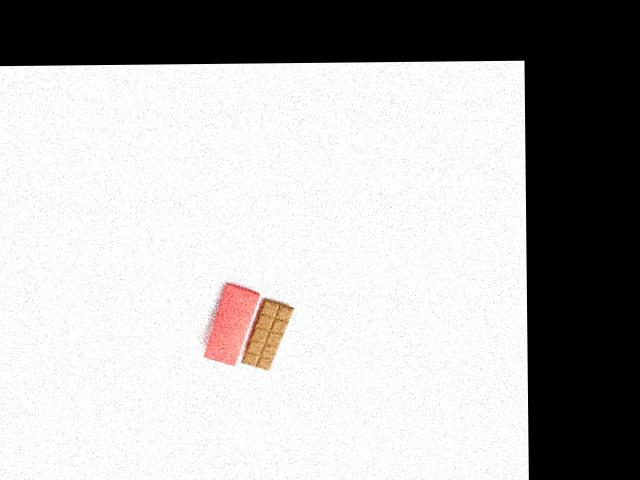chocolate: (237, 294, 294, 372)
